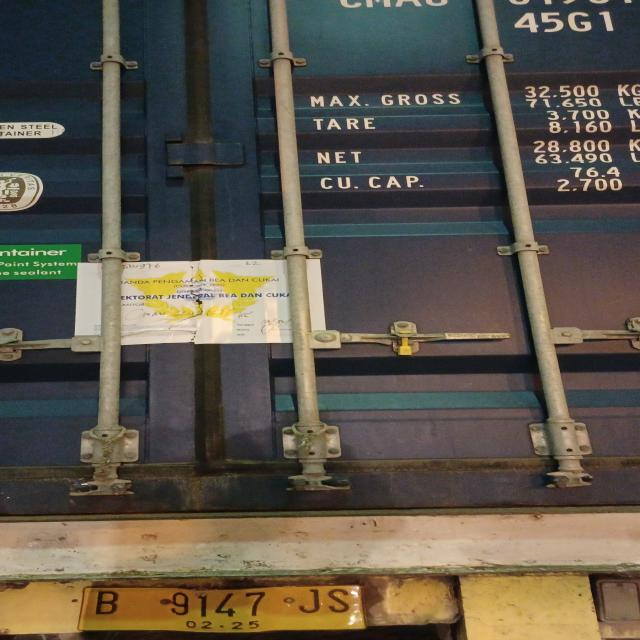seal: (394, 328, 420, 355)
